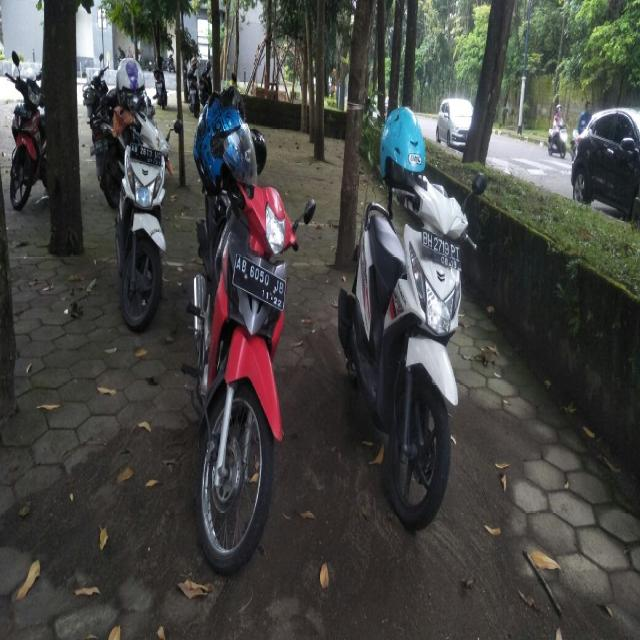plate: (232, 249, 286, 313), (421, 230, 463, 266), (129, 142, 162, 166)
